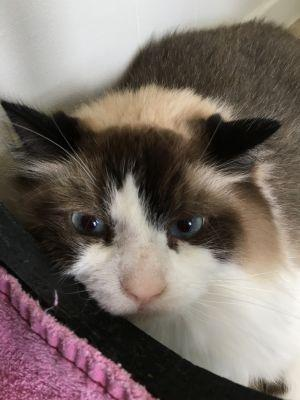ragdoll: (6, 83, 285, 353)
